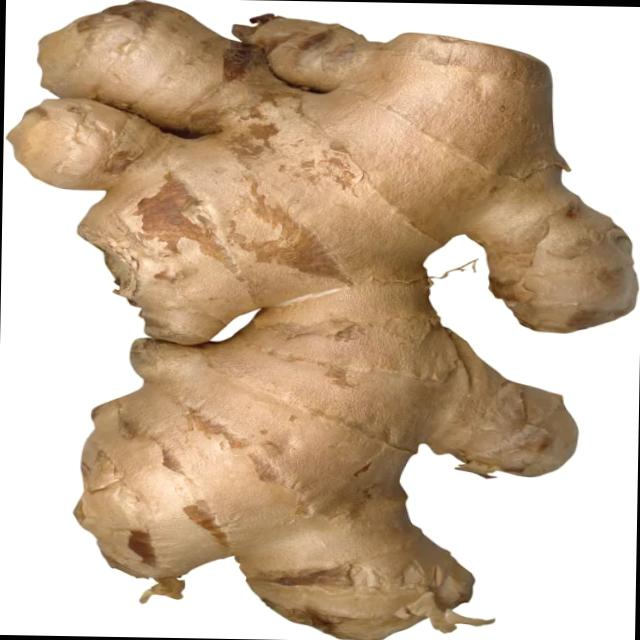lemon: (0, 0, 640, 637)
